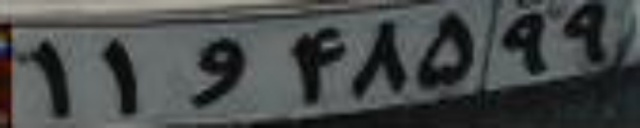1: (28, 40, 75, 118), (98, 38, 138, 114)
4: (286, 28, 347, 104)
5: (412, 13, 479, 86)
8: (352, 22, 408, 98)
9: (500, 11, 547, 74), (563, 3, 609, 62)
vav: (186, 38, 248, 108)
